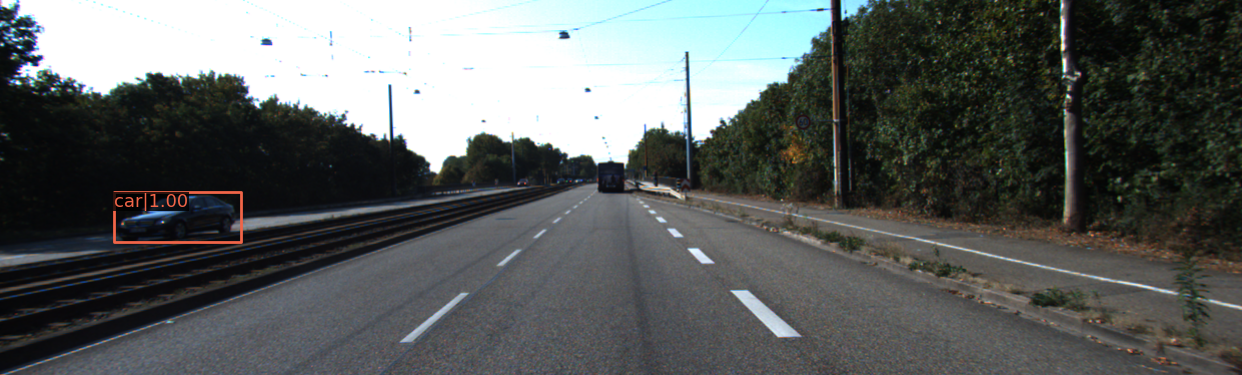car: (120, 196, 243, 245)
